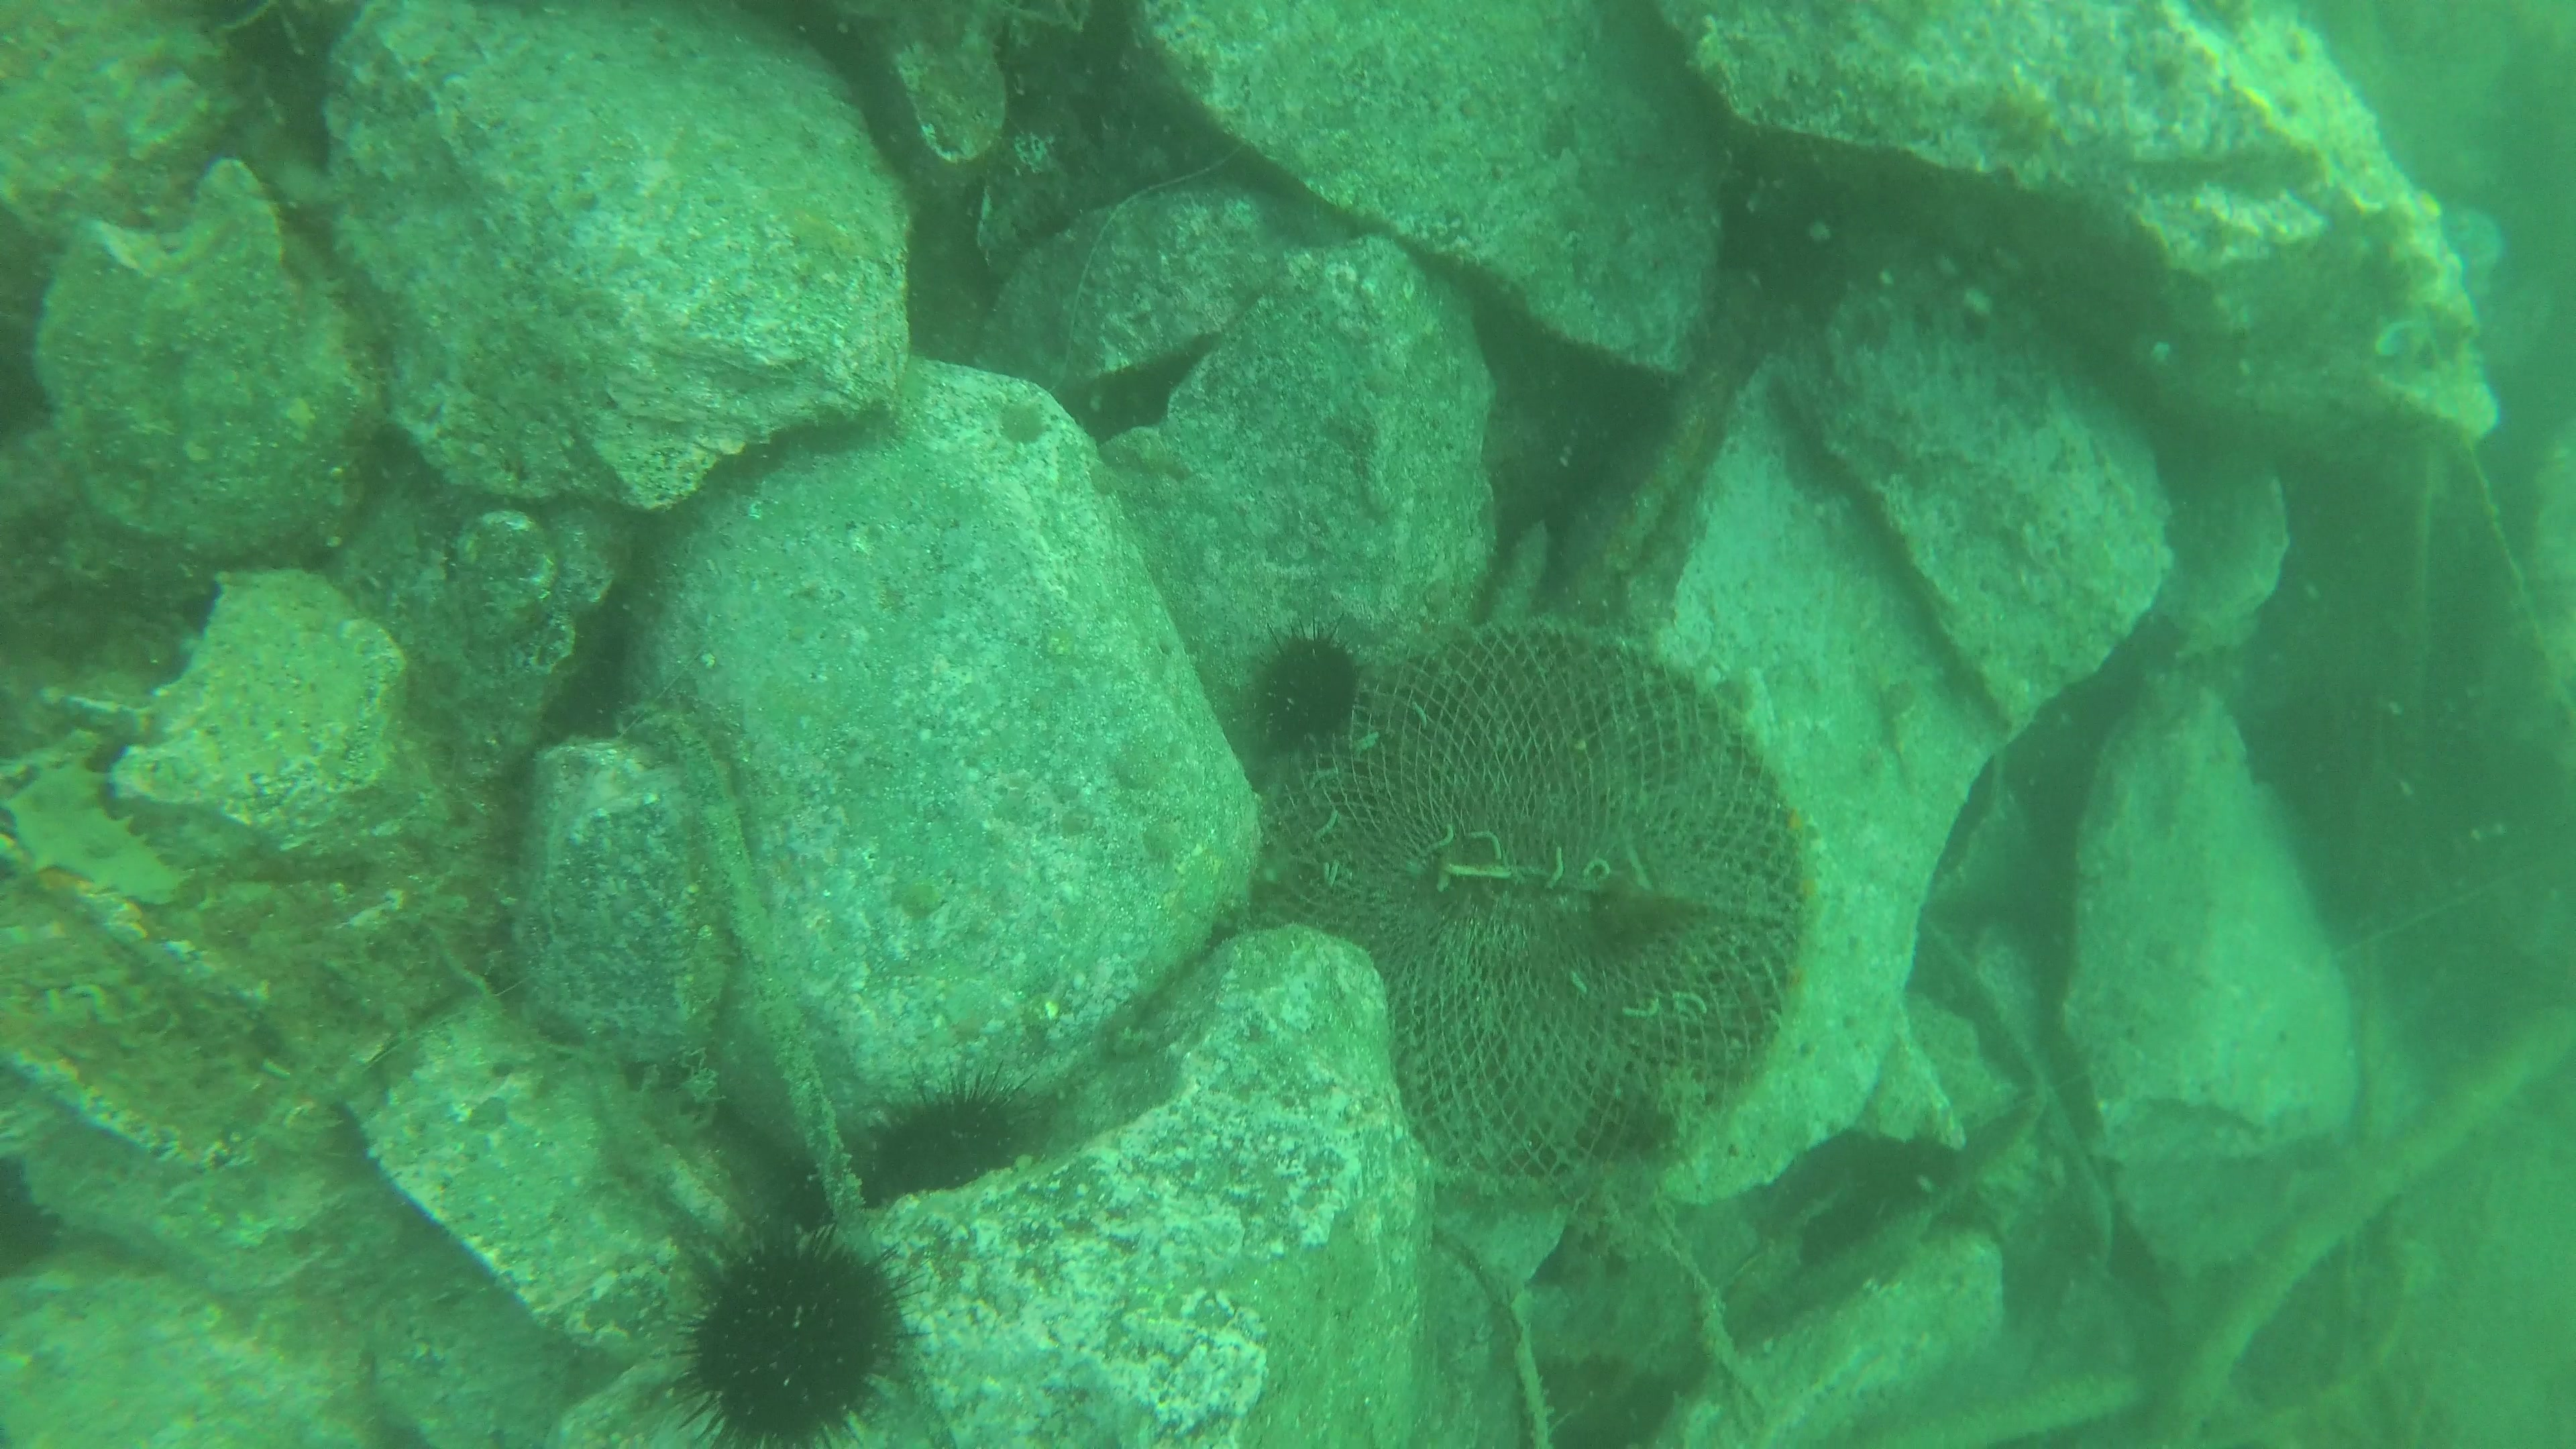echinus: (683, 1231, 908, 1449), (1260, 635, 1359, 747)
